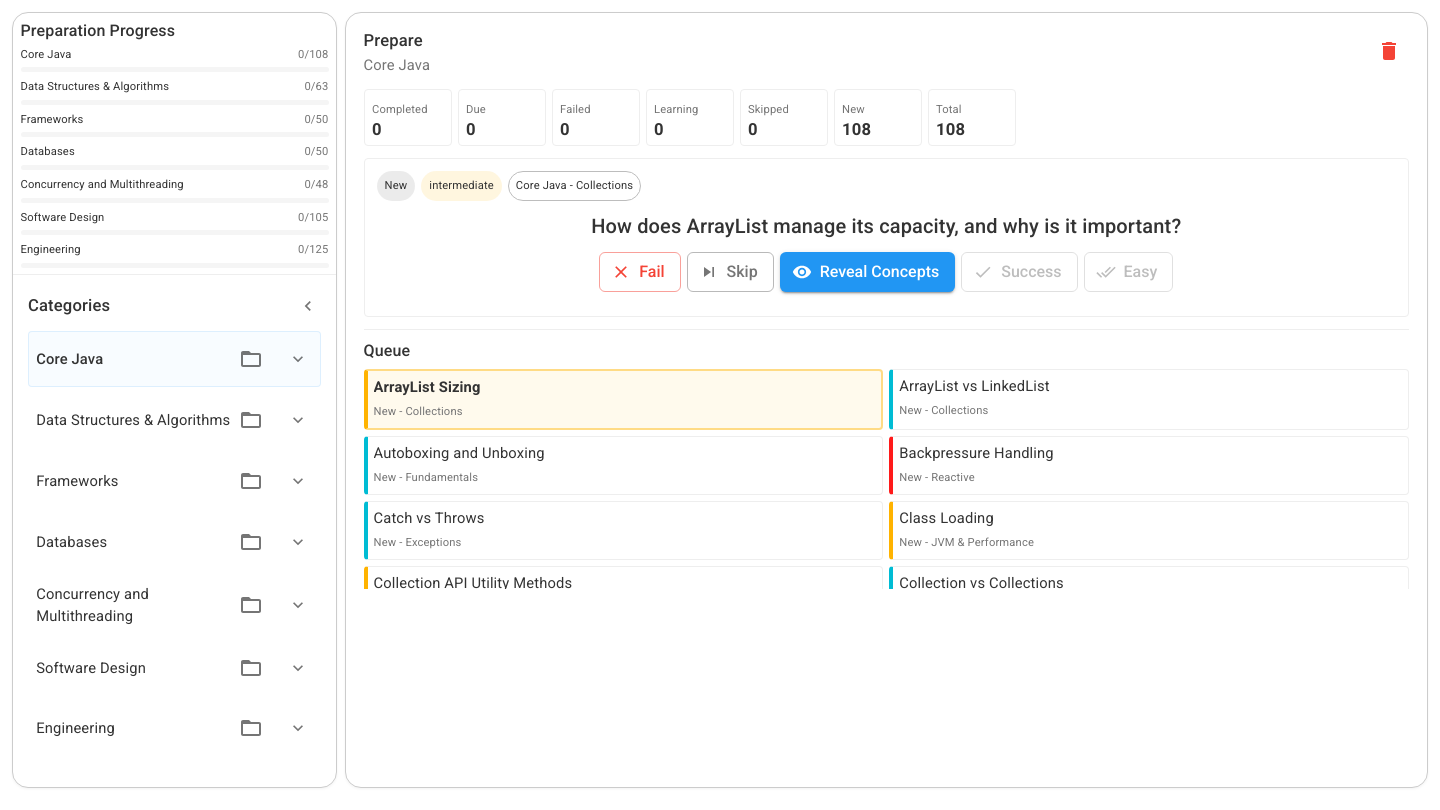
Scenario: PreparationPanel › skip records progress and moves the question to skipped status
Expected: the heading "How does ArrayList manage its capacity, and why is it important?" is shown, top-left (591, 214), bottom-right (1181, 238)
Click the button "Skip".
click(730, 272)  # box top-left (687, 252), bottom-right (774, 292)
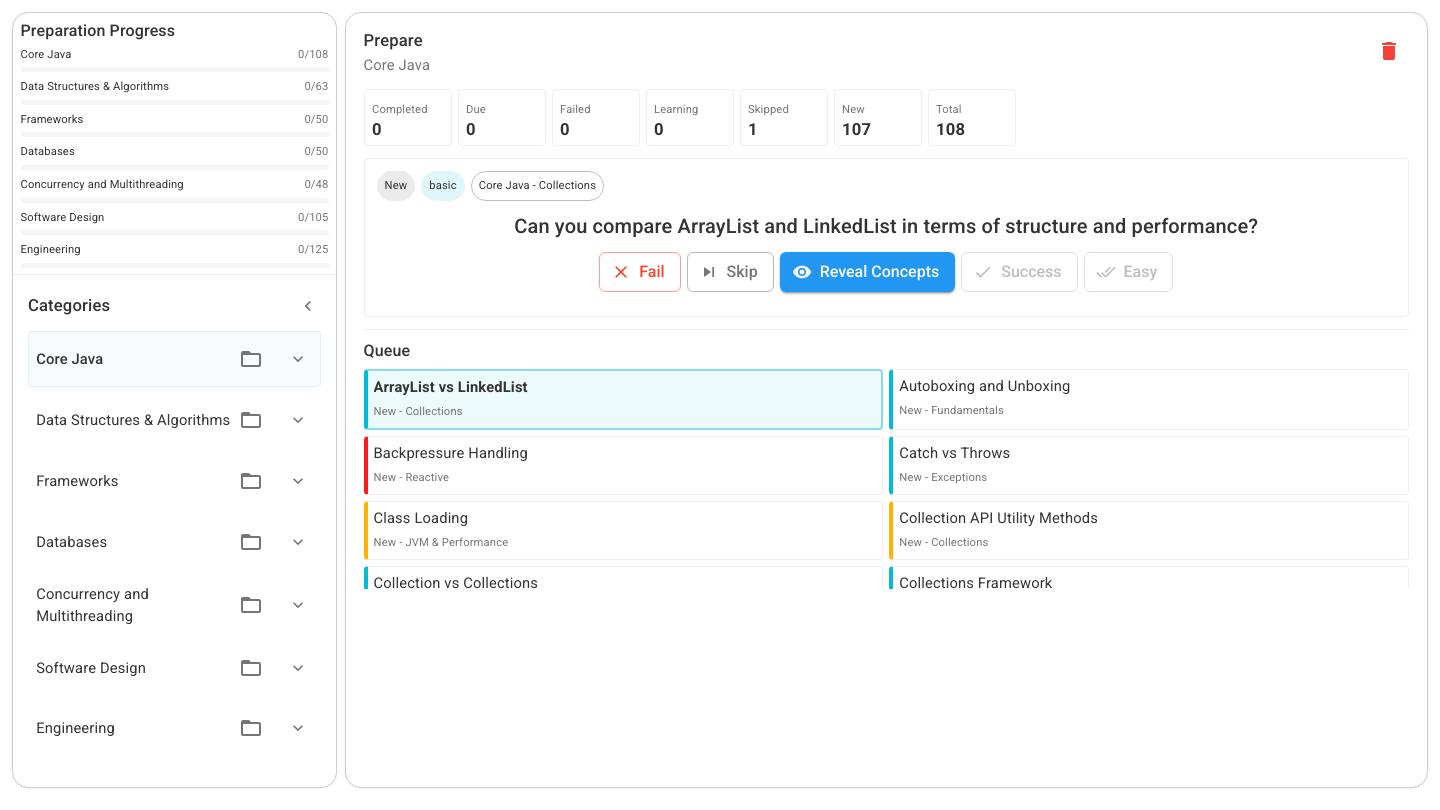
Now the heading "Can you compare ArrayList and LinkedList in terms of structure and performance?" is shown, box top-left (514, 214), bottom-right (1258, 238)
Now the element labelled "Skipped 1" is shown, box top-left (740, 88), bottom-right (828, 146)
